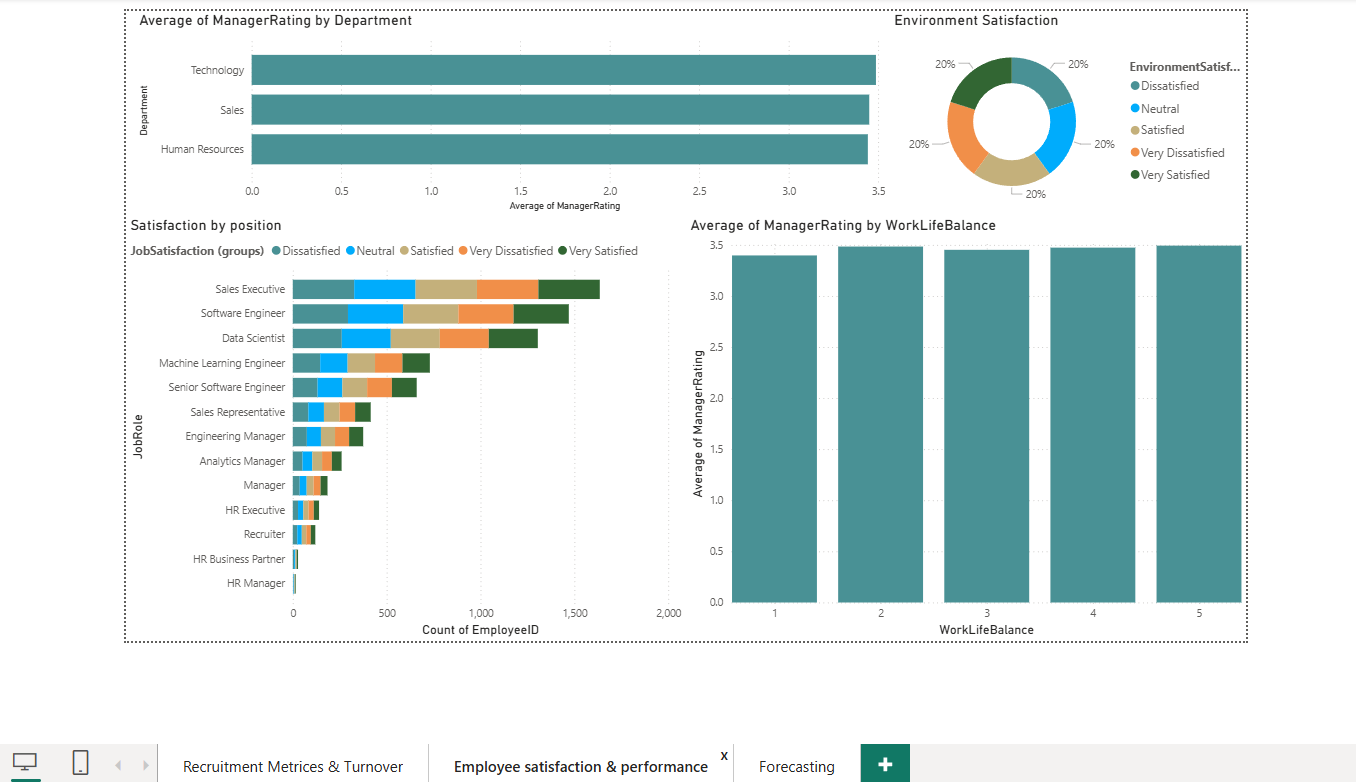

The page's visual inventory and layout, read from the dashboard file:
{"tool":"powerbi","page":{"name":"Employee satisfaction & performance","canvas":[1280,720],"ordinal":1},"visuals":[{"type":"clusteredBarChart","fields":{"Y":["Avg(PerformanceRating.ManagerRating)"],"Category":["Employee.Department"]},"box":[10,0,862.9,234.3],"z":0},{"type":"donutChart","title":"Environment Satisfaction","fields":{"Category":["PerformanceRating.EnvironmentSatisfaction_Text"],"Y":["CountNonNull(Employee.EmployeeID)"]},"box":[872.9,0,407.1,234.3],"z":1000},{"type":"barChart","title":"Satisfaction by position","fields":{"Category":["Employee.JobRole"],"Series":["PerformanceRating.JobSatisfaction (groups)"],"Y":["CountNonNull(Employee.EmployeeID)"]},"box":[0,234.3,640,485.7],"z":2000},{"type":"clusteredColumnChart","fields":{"Category":["PerformanceRating.WorkLifeBalance"],"Y":["Avg(PerformanceRating.ManagerRating)"]},"box":[640,234.3,640,485.7],"z":3000}]}

Visuals, with their boxes on the page's 1280x720 design canvas (x1, y1, x2, y2). These are canvas units, not pixel positions in the 1356x782 screenshot, which may show the page scaled, cropped or inside an application window:
clusteredBarChart - Avg(PerformanceRating.ManagerRating) x Employee.Department: BBox(10, 0, 873, 234)
"Environment Satisfaction" donutChart: BBox(873, 0, 1280, 234)
"Satisfaction by position" barChart: BBox(0, 234, 640, 720)
clusteredColumnChart - PerformanceRating.WorkLifeBalance x Avg(PerformanceRating.ManagerRating): BBox(640, 234, 1280, 720)
